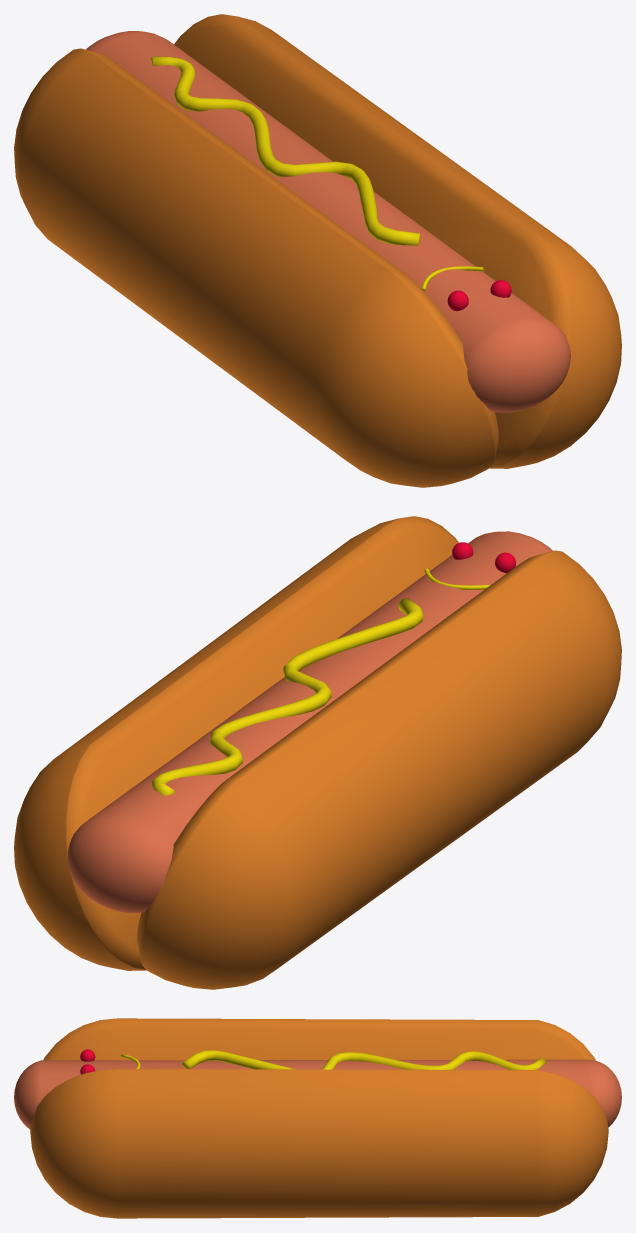
The model's file is HotDog.fbx.
3 views of the same model, one above another, from view 1: azimuth 30°, elevation 25°; view 2: azimuth 150°, elevation 25°; view 3: azimuth 270°, elevation 25° (orthographic). The views are drawn at different scales.
Visible parts, largest first — view 1: Hot Dog; view 2: Hot Dog; view 3: Hot Dog.
Part boxes in pixels (<box>): Hot Dog: <box>14,14,621,487</box>; Hot Dog: <box>14,516,621,989</box>; Hot Dog: <box>14,1018,621,1218</box>.
Size of the model in its own units: 271 by 194 by 698.
